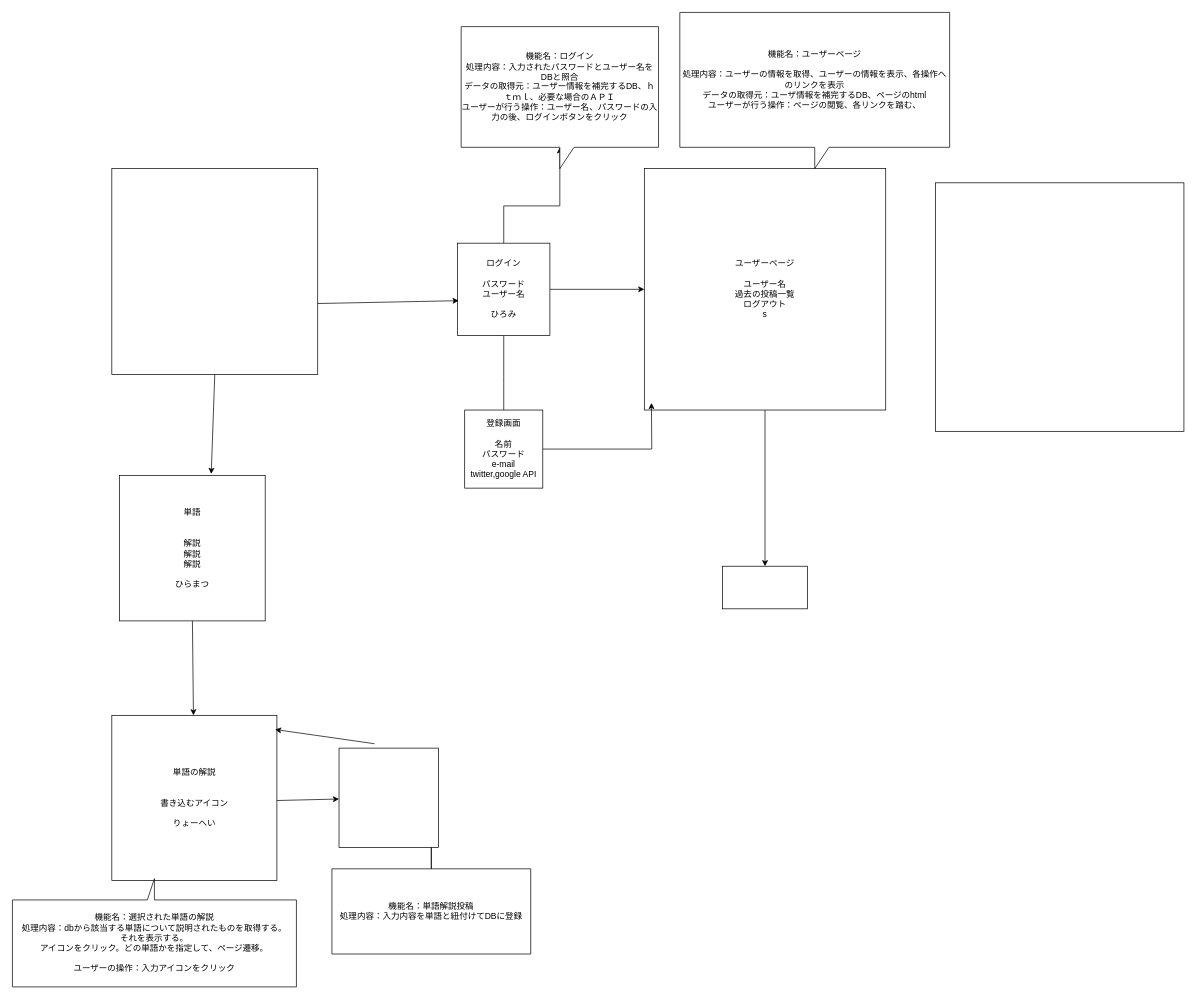
Image size: 1196x1000. Some labels were removed from this diagram. The centre of each missing label's shape, as x and y in pixels:
"ホーム画面 検索窓 単語がずらり ひらまつ" goes at pixel 214 271.
"ログインした状態" goes at pixel 765 587.
"機能名 処理内容 処理に必要なデータ データの取得元 ユーザーが行い操作" goes at pixel 1059 306.
"解説 投稿 りょーへい" goes at pixel 388 797.
